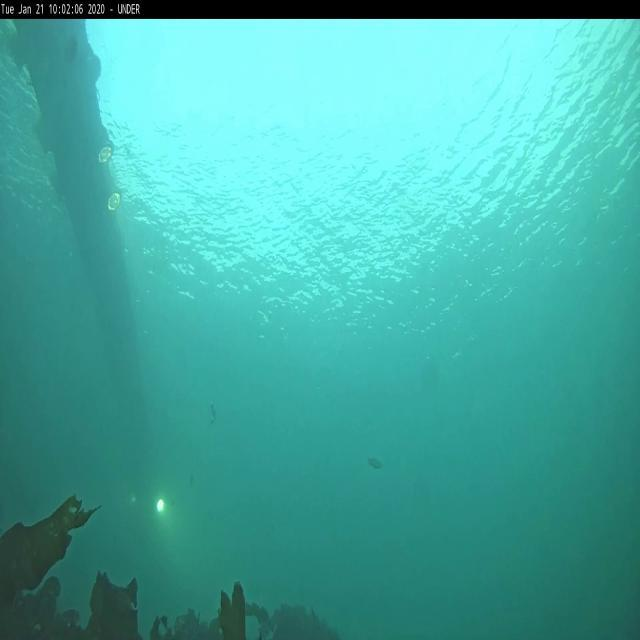fish: (366, 455, 384, 471), (209, 402, 217, 428)
